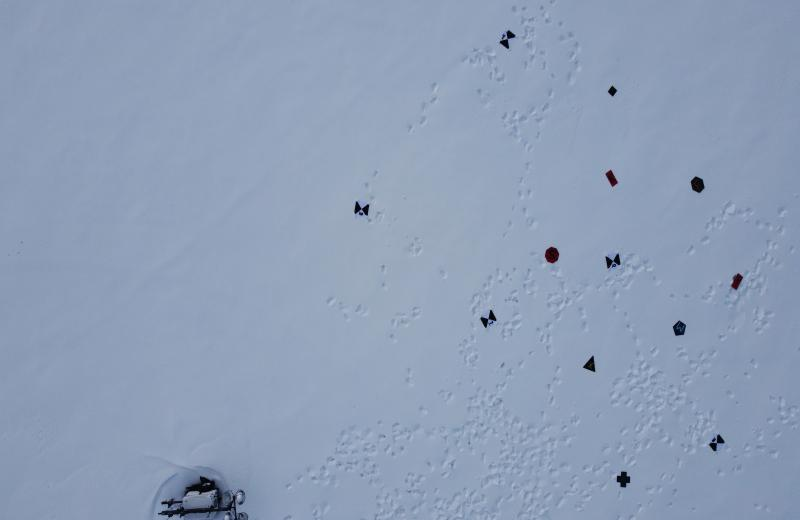Cross: (616, 471, 631, 488)
Hexagon: (691, 176, 705, 193)
Octagon: (545, 246, 560, 264)
Pentagon: (671, 319, 688, 336)
Rectangle: (730, 272, 744, 291), (605, 170, 619, 188)
Square: (608, 86, 618, 97)
Triangle: (582, 354, 596, 372)
